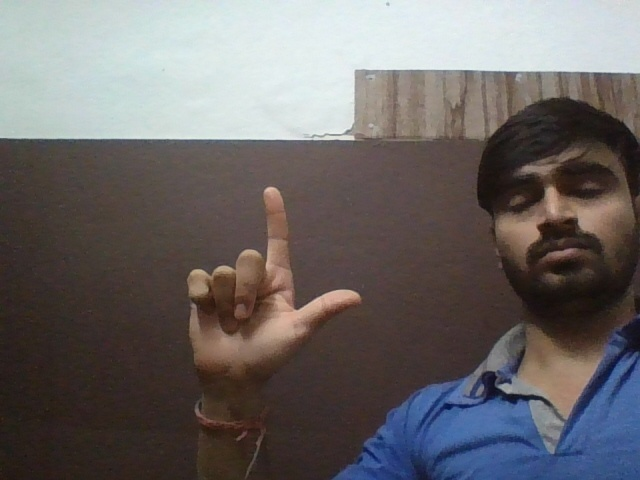L: (174, 187, 379, 390)
